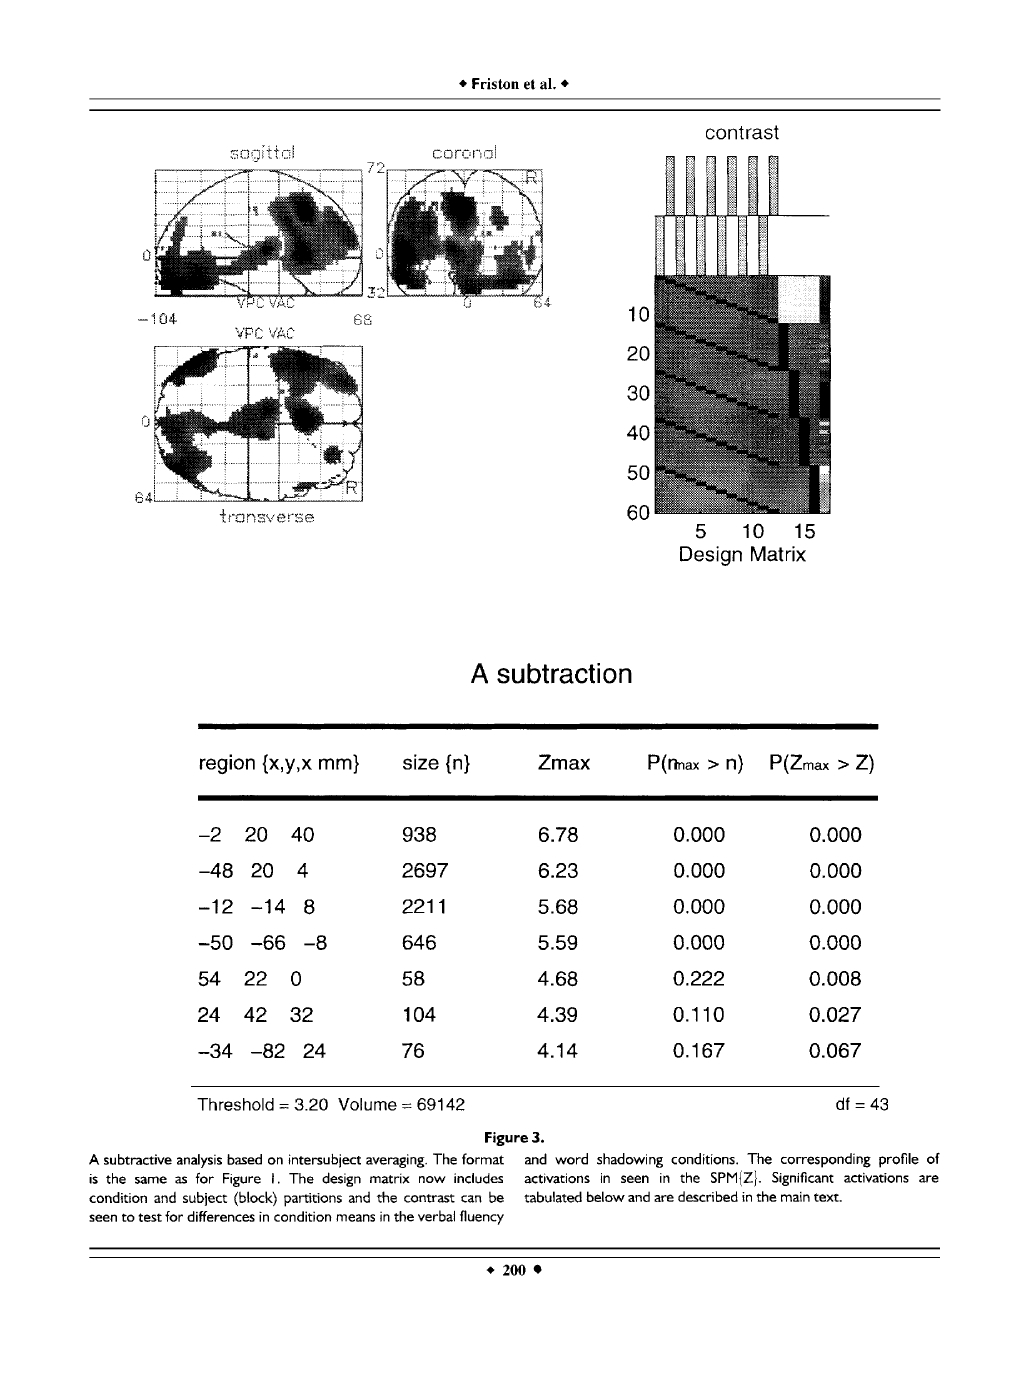Table: (198, 723, 879, 1057)
figure: (135, 145, 551, 522), (628, 126, 830, 565)
